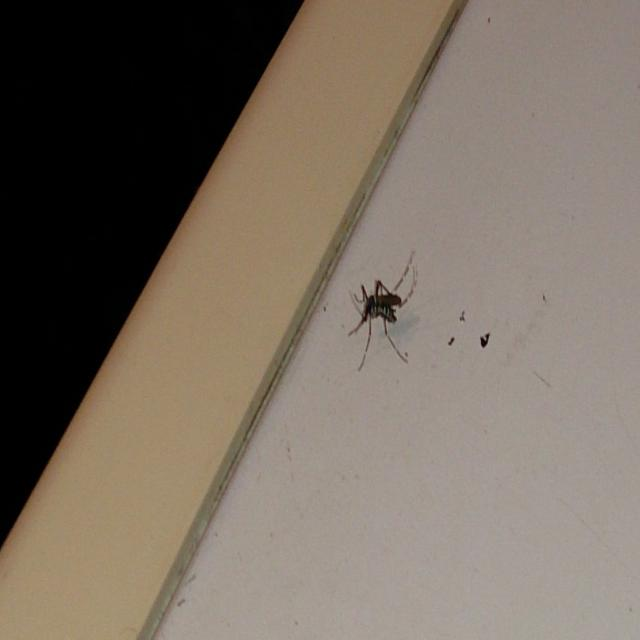albopictus: (344, 242, 421, 376)
